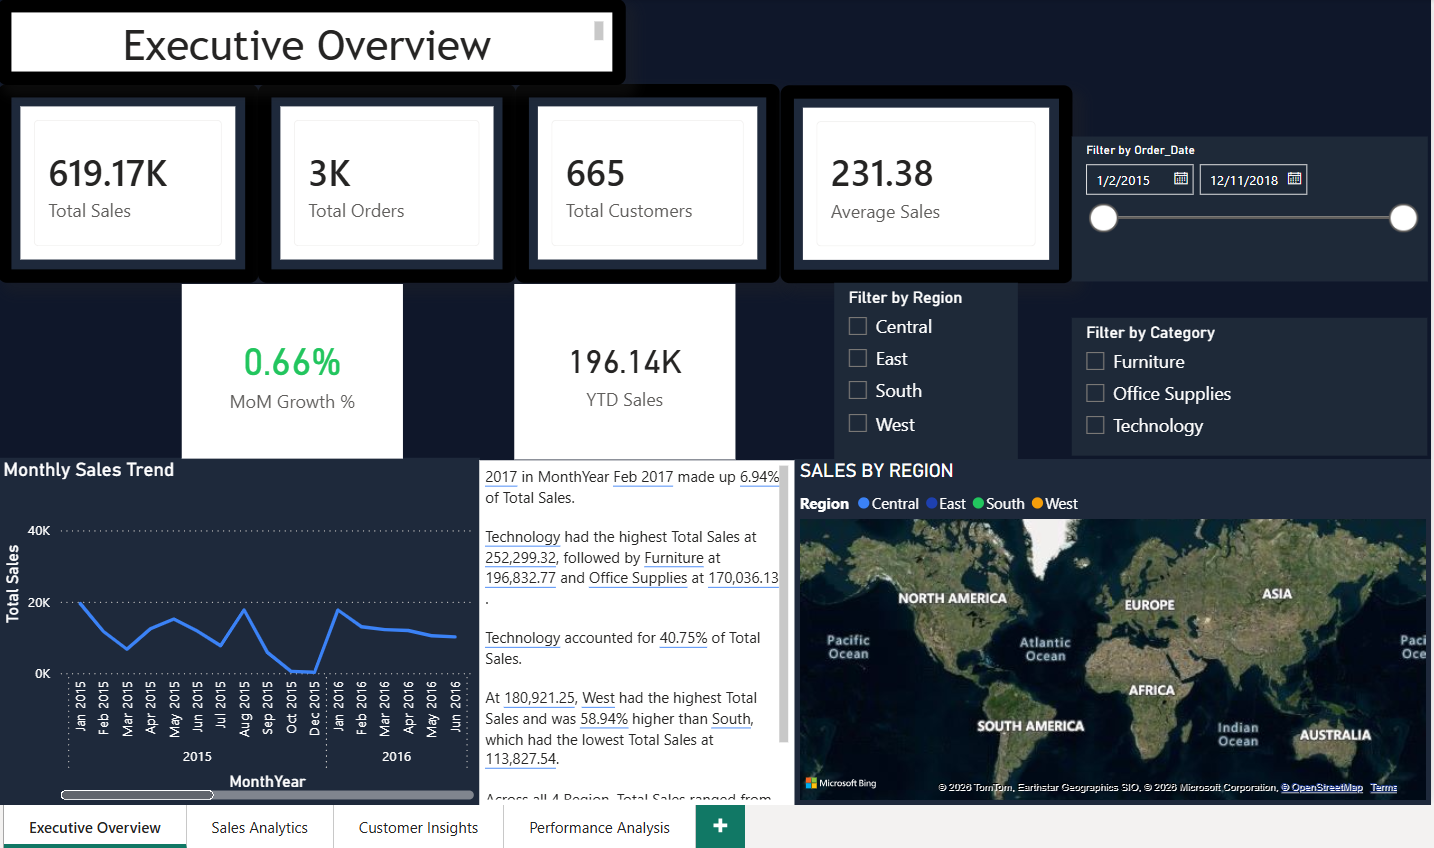

The page's visual inventory and layout, read from the dashboard file:
{"tool":"powerbi","page":{"name":"Executive Overview","canvas":[1280,720],"ordinal":0},"visuals":[{"type":"cardVisual","fields":{"Data":["Sum(train.Sales)"]},"box":[0,75.6,232.6,177.9],"z":0},{"type":"cardVisual","fields":{"Data":["train.Total Orders"]},"box":[232.6,75.6,230.2,177.9],"z":1000},{"type":"cardVisual","fields":{"Data":["train.Total Customers"]},"box":[462.8,75.6,236,177.9],"z":2000},{"type":"cardVisual","fields":{"Data":["train.Average Sales"]},"box":[698.8,76.7,260.5,176.7],"z":3000},{"type":"lineChart","title":"Monthly Sales Trend","fields":{"Y":["train.Total Sales"],"Category":["train.Year","train.MonthYear"]},"box":[0,409.3,430.2,310.5],"z":4000},{"type":"map","title":"SALES BY REGION","fields":{"Series":["train.Region"],"Size":["train.Total Sales"]},"box":[711.6,410.5,568.6,309.3],"z":5000},{"type":"slicer","fields":{"Values":["train.Region"]},"box":[746.5,253.5,164,158.1],"z":6000},{"type":"slicer","fields":{"Values":["train.Category"]},"box":[959.3,284.9,317.4,123.3],"z":7000},{"type":"slicer","fields":{"Values":["train.Order_Date"]},"box":[959.3,123.3,317.4,129.1],"z":8000},{"type":"textbox","box":[0,0,560.5,77],"z":9000},{"type":"card","fields":{"Values":["train.MoM Growth %"]},"box":[164,254.7,197.7,155.8],"z":10000},{"type":"textbox","box":[430.2,411.6,281.4,308.1],"z":11000},{"type":"card","fields":{"Values":["train.YTD Sales"]},"box":[461.6,254.7,197.7,157],"z":12000}]}

Visuals, with their boxes on the page's 1280x720 design canvas (x1, y1, x2, y2). These are canvas units, not pixel positions in the 1434x848 screenshot, which may show the page scaled, cropped or inside an application window:
cardVisual - Sum(train.Sales): [0,76,233,254]
cardVisual - train.Total Orders: [233,76,463,254]
cardVisual - train.Total Customers: [463,76,699,254]
cardVisual - train.Average Sales: [699,77,959,253]
"Monthly Sales Trend" lineChart: [0,409,430,720]
"SALES BY REGION" map: [712,410,1280,720]
slicer - train.Region: [746,254,910,412]
slicer - train.Category: [959,285,1277,408]
slicer - train.Order_Date: [959,123,1277,252]
textbox: [0,0,560,77]
card - train.MoM Growth %: [164,255,362,410]
textbox: [430,412,712,720]
card - train.YTD Sales: [462,255,659,412]
